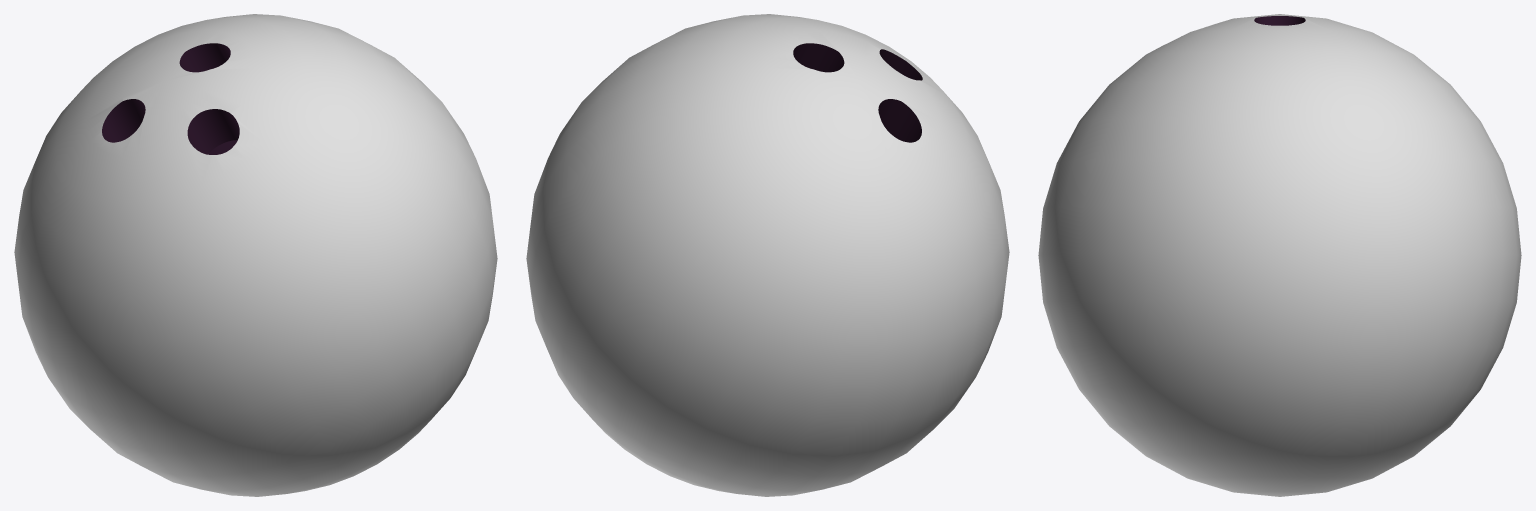
The model's file is Bowling 1.0.fbx.
3 renders of one model, left to right at view 1: azimuth 30°, elevation 25°; view 2: azimuth 150°, elevation 25°; view 3: azimuth 270°, elevation 25°, orthographic.
Parts seen in each view (by area): view 1: Sphere; view 2: Sphere; view 3: Sphere.
Boxes of the visible parts, <box> form: Sphere: <box>14,14,497,496</box>; Sphere: <box>526,14,1009,496</box>; Sphere: <box>1038,14,1521,496</box>.
Size of the model in its own units: 9981 by 9981 by 10000.
